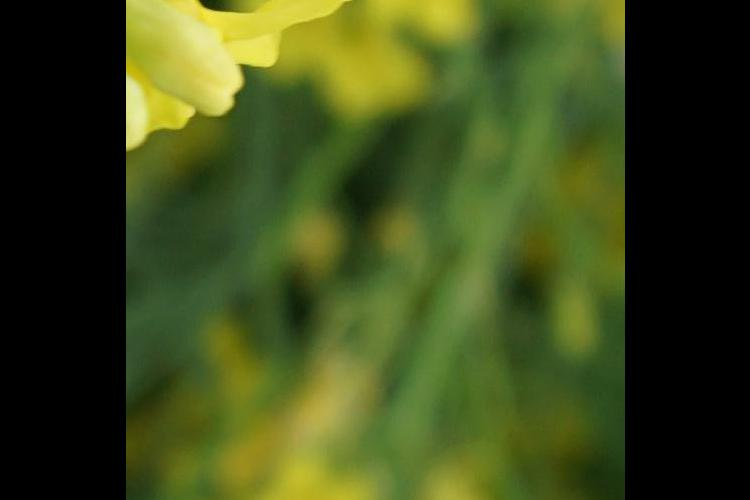yellow: (128, 1, 357, 121)
